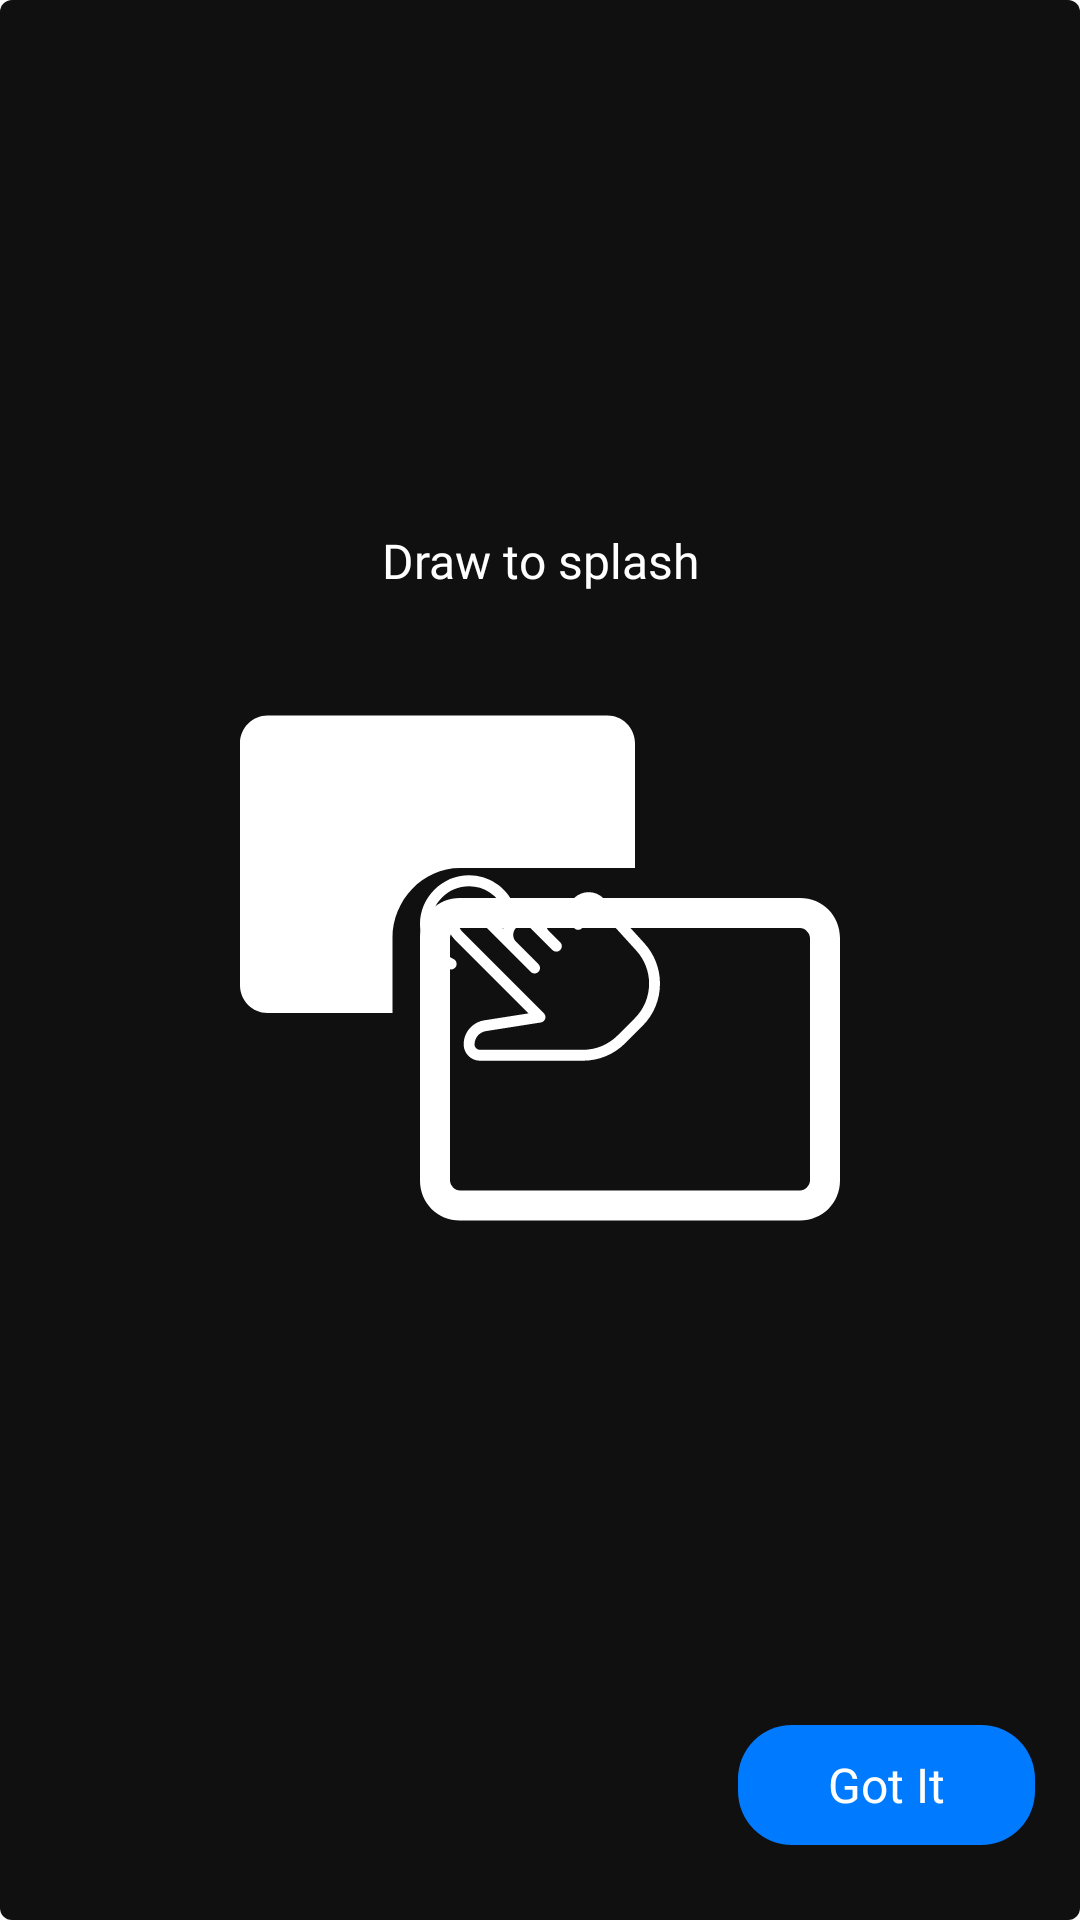

Icon bounding boxes for this 1080×1920 phone screenshot, format (x1, y1, x2, y2):
finger draw: (420, 848, 660, 1088)
